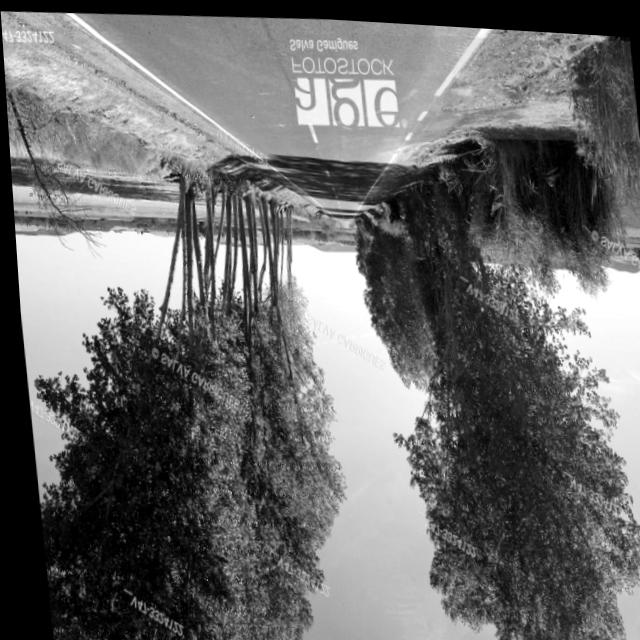cleat: (163, 13, 622, 285)
